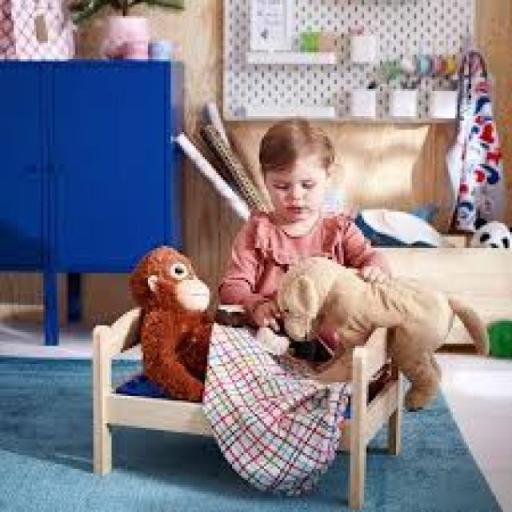baby: (219, 121, 393, 329)
